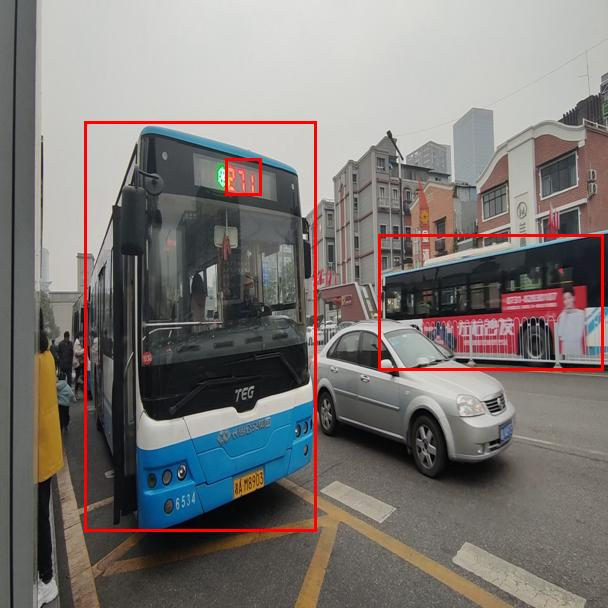bus: (84, 121, 316, 531), (378, 234, 603, 370)
screen: (225, 158, 261, 195)
